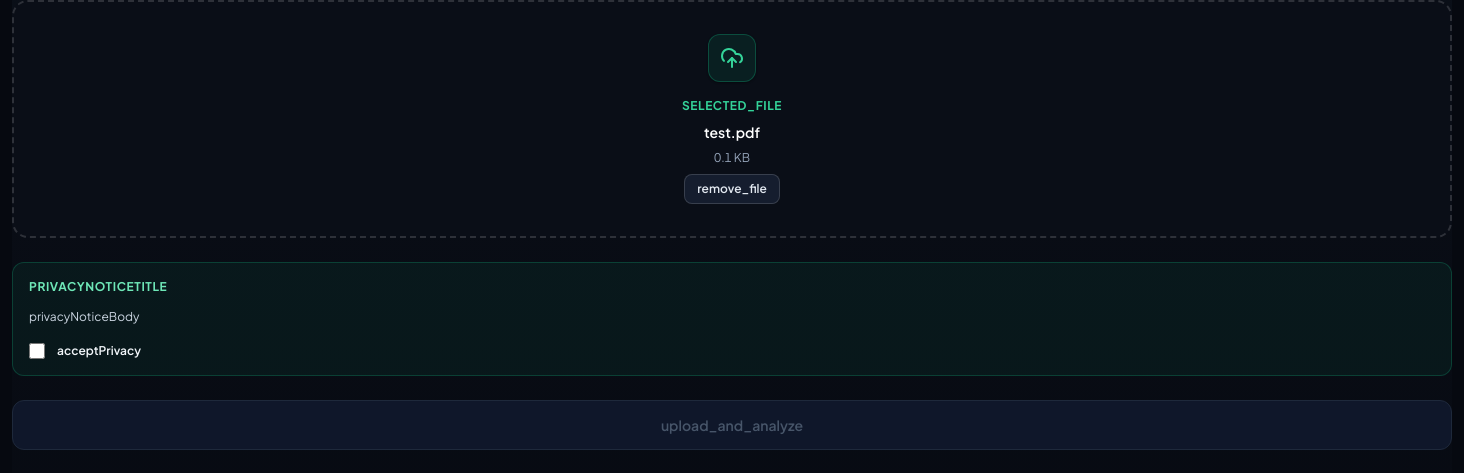
Test: DocumentUploadForm — automatic upload-to-questions flow (Phase 13) › shows the generic translated fallback (never a raw key) when the backend error has no error code
This screenshot has width=1464, height=473.
Earlier steps of the test are not shown.
Click the checkbox. click: {"x": 37, "y": 350}
box: [29,342,45,358]
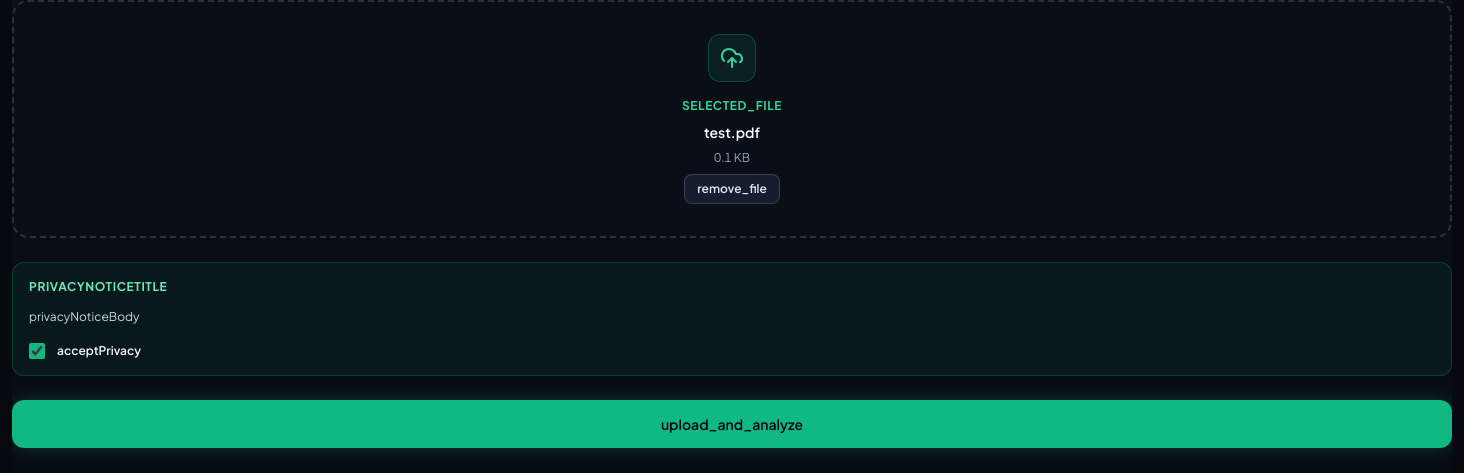
Click the button "upload_and_analyze". click: {"x": 732, "y": 424}
box: [12,400,1452,448]
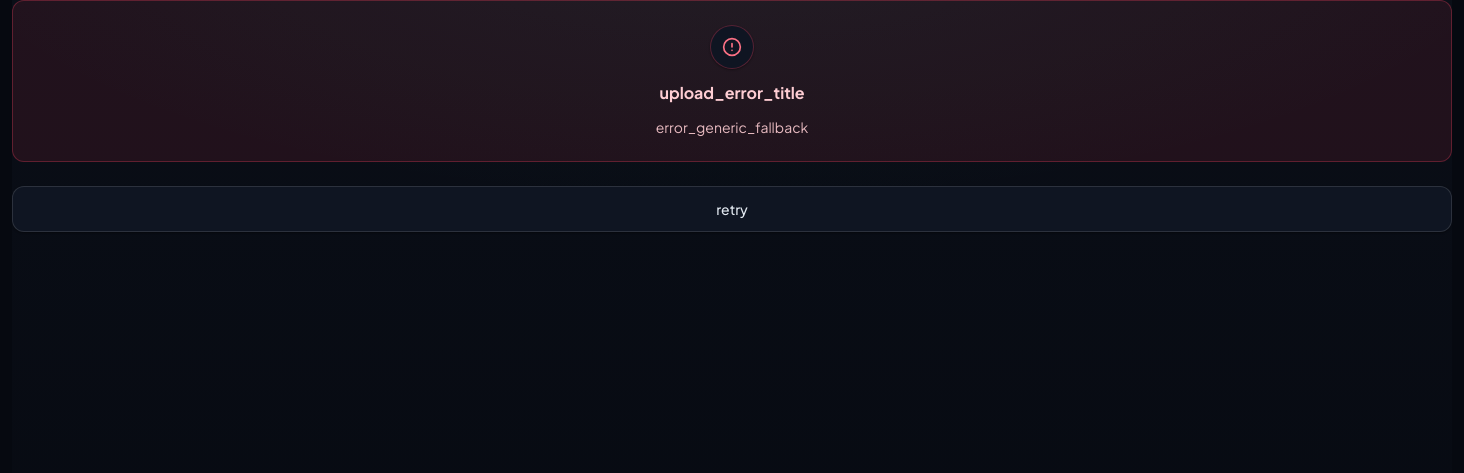
Result: the text "error_generic_fallback" is shown at [656,118,808,136]
